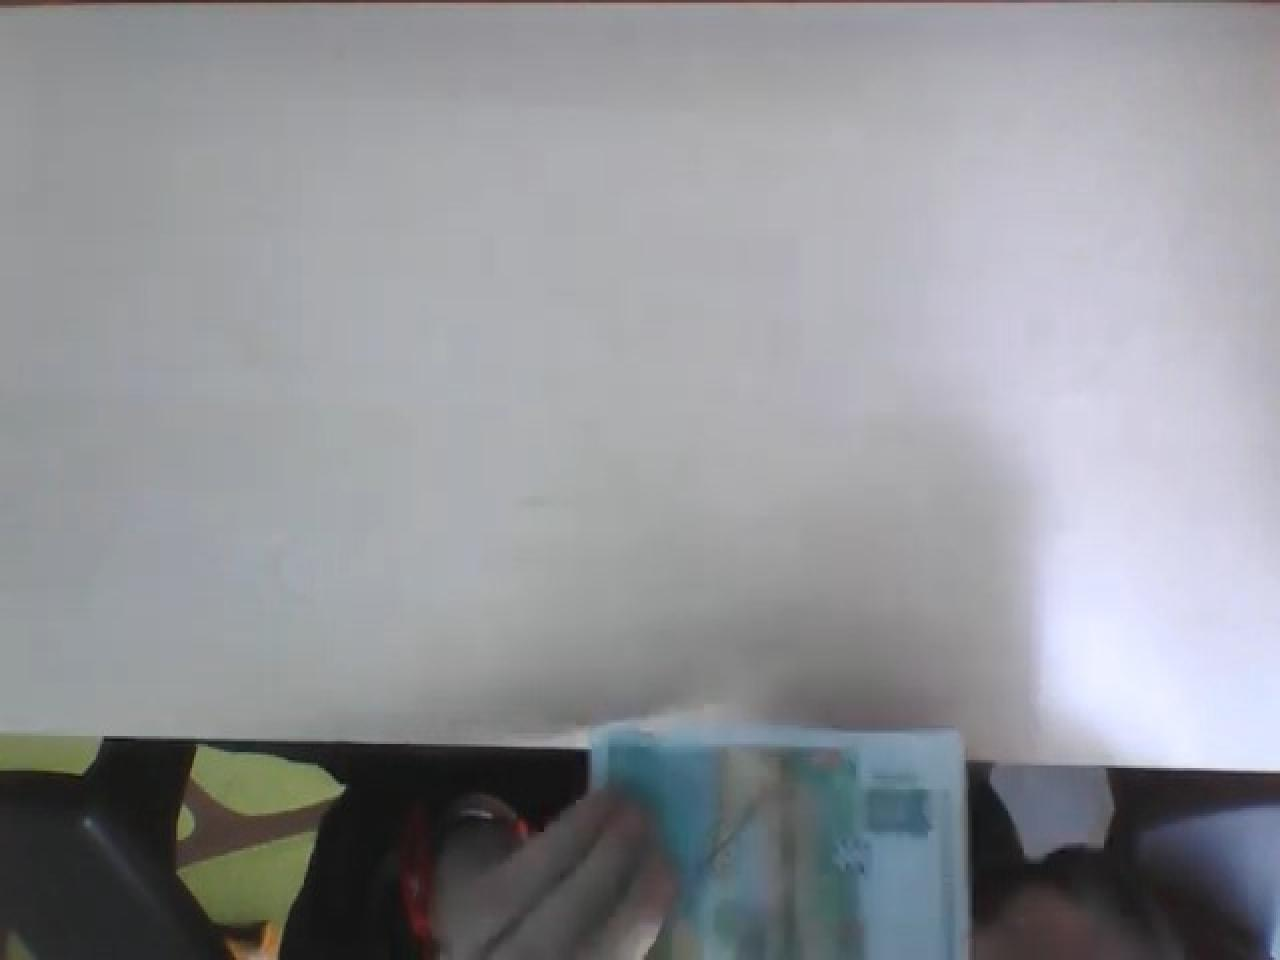100leva: (588, 723, 974, 960)
